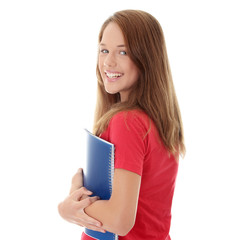teen: (94, 14, 146, 101)
